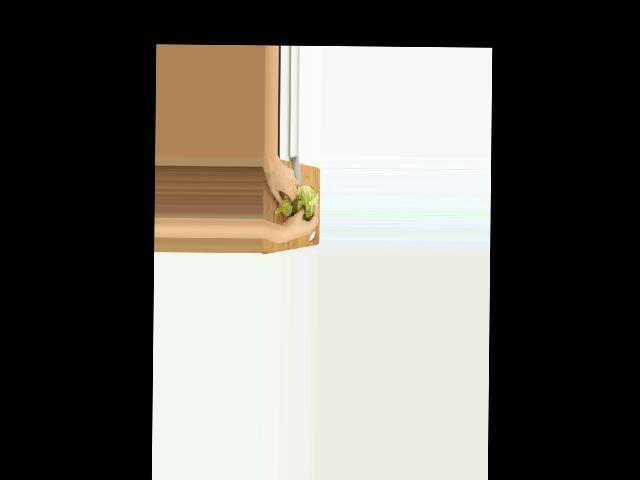lettuce: (294, 184, 317, 218)
